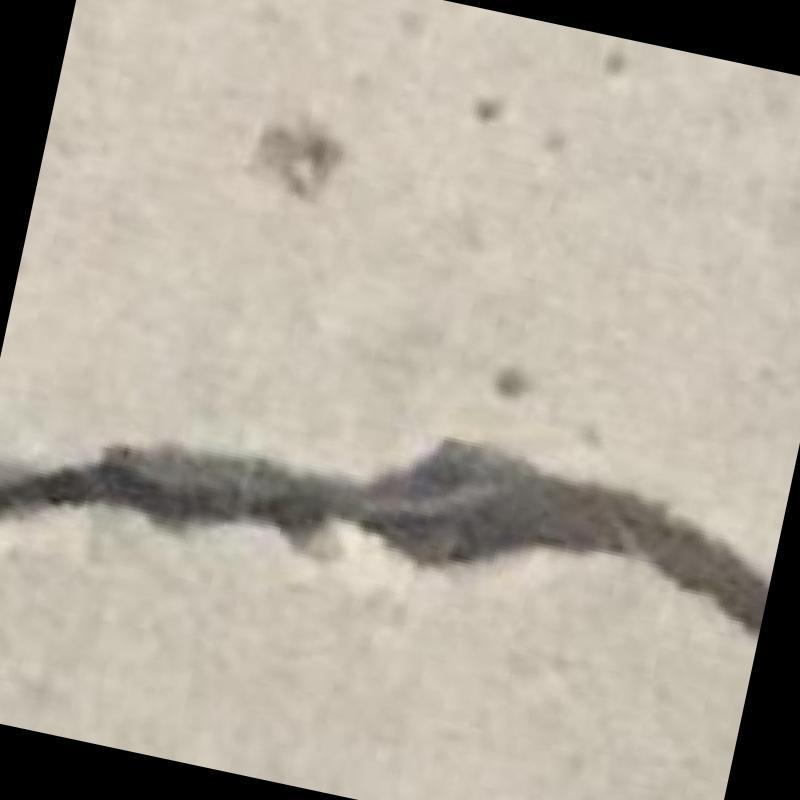crack: (0, 440, 769, 633)
